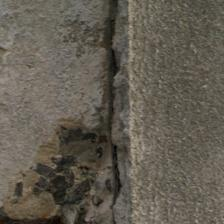Crack: (49, 3, 81, 206)
